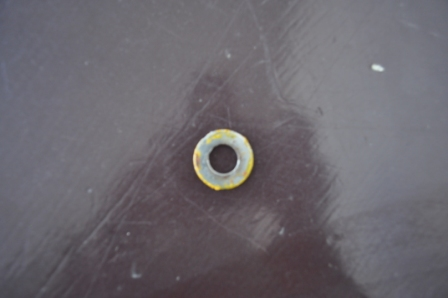METALIC WASHER: (193, 129, 254, 190)
